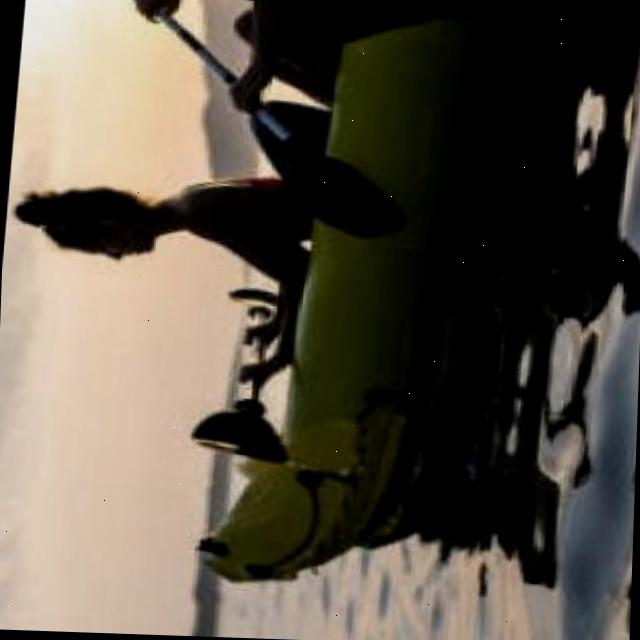kayak: (205, 5, 477, 575), (209, 525, 238, 536)
